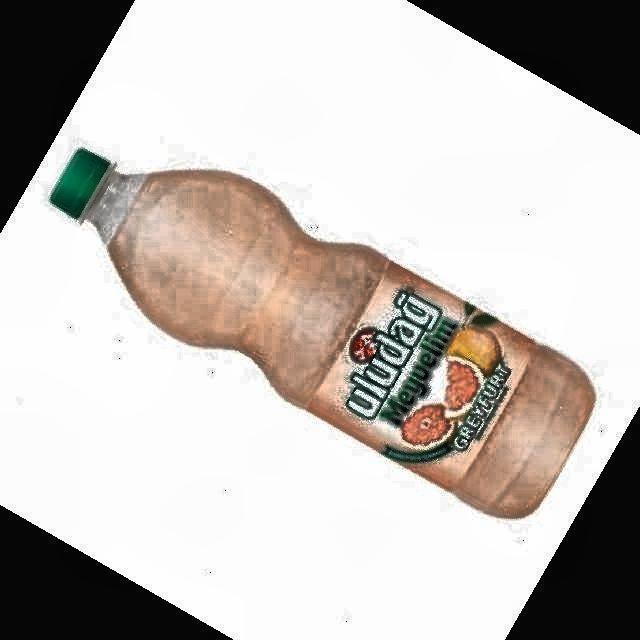plastic: (50, 148, 592, 517)
